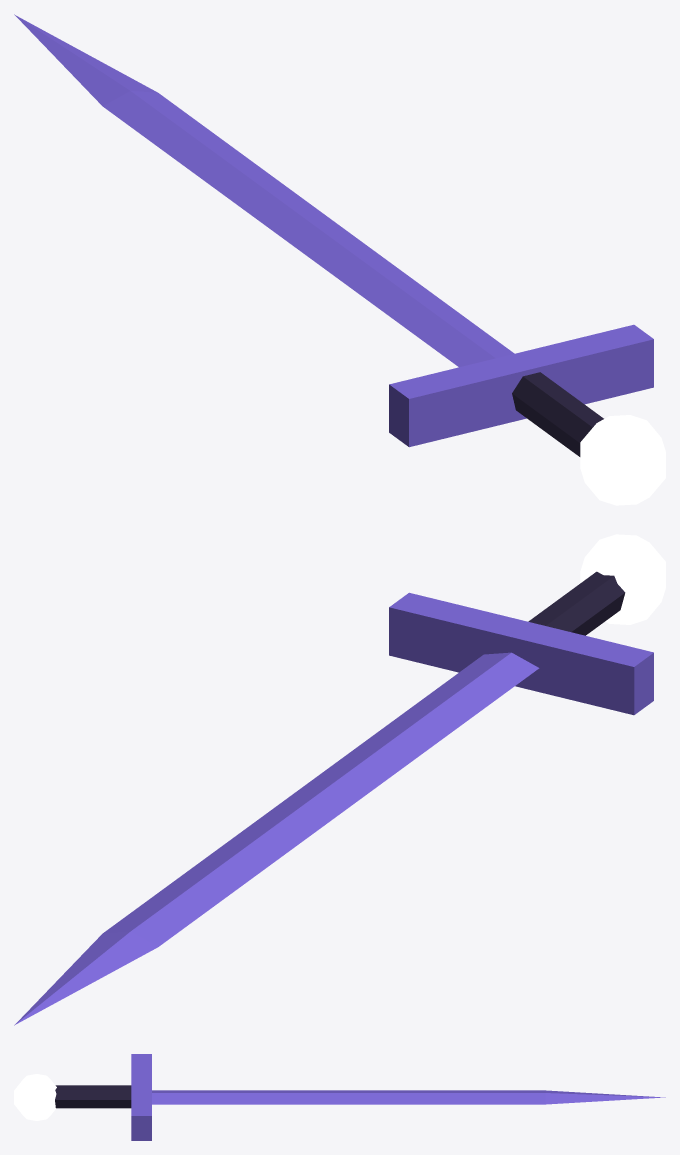
The model's file is Weapon_Sword_Starlight.fbx.
3 views of the same model, one above another, from view 1: azimuth 30°, elevation 25°; view 2: azimuth 150°, elevation 25°; view 3: azimuth 270°, elevation 25° (orthographic). The views are drawn at different scales.
Visible parts, largest first — view 1: Weapon_Sword_Starlight; view 2: Weapon_Sword_Starlight; view 3: Weapon_Sword_Starlight.
Part boxes in pixels (x1,y1,x2,y2): Weapon_Sword_Starlight: (14,14,665,505); Weapon_Sword_Starlight: (14,534,665,1025); Weapon_Sword_Starlight: (14,1054,665,1140).
Size of the model in its own units: 0.085 by 0.028 by 0.3793.
